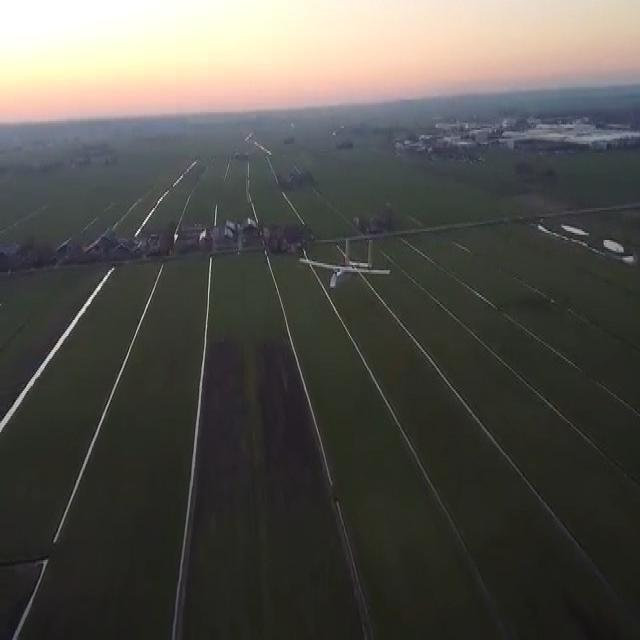drones: (298, 227, 396, 304)
